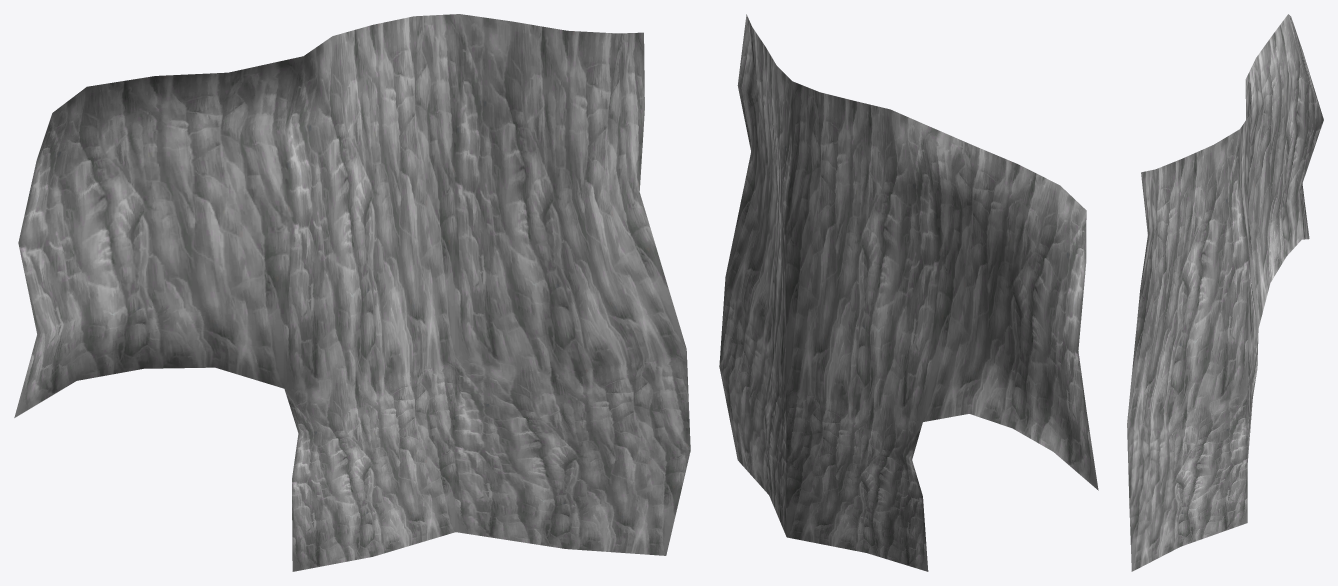
File: SWORDLIGHT20_PS-AREA03_36.fbx
The picture shows the model from 3 angles, left to right: view 1: azimuth 30°, elevation 25°; view 2: azimuth 150°, elevation 25°; view 3: azimuth 270°, elevation 25°; orthographic projection. The views are drawn at different scales.
Parts seen in each view (by area): view 1: SWORDLIGHT20_PS-AREA03_36; view 2: SWORDLIGHT20_PS-AREA03_36; view 3: SWORDLIGHT20_PS-AREA03_36.
Boxes of the visible parts, x1=… form: SWORDLIGHT20_PS-AREA03_36: x1=14, y1=14, x2=690, y2=571; SWORDLIGHT20_PS-AREA03_36: x1=719, y1=14, x2=1098, y2=571; SWORDLIGHT20_PS-AREA03_36: x1=1127, y1=14, x2=1323, y2=571.
Bounding box in the file's own units: 166952 × 150410 × 67910.
1 material, 1 textured.
